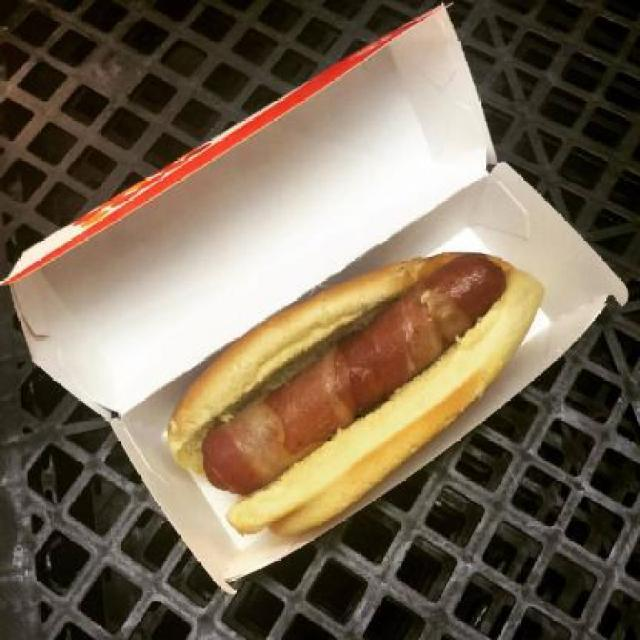Hot dog: (160, 243, 549, 542)
